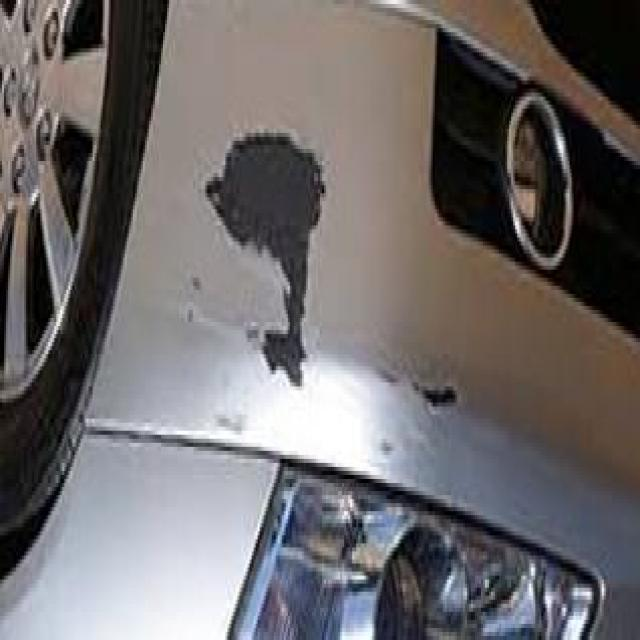scratch: (208, 118, 339, 400), (408, 366, 467, 427)
